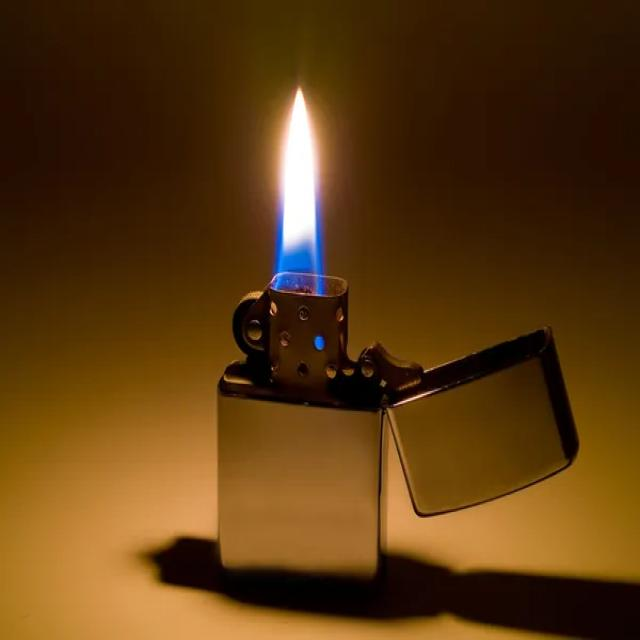fire: (239, 58, 357, 310)
